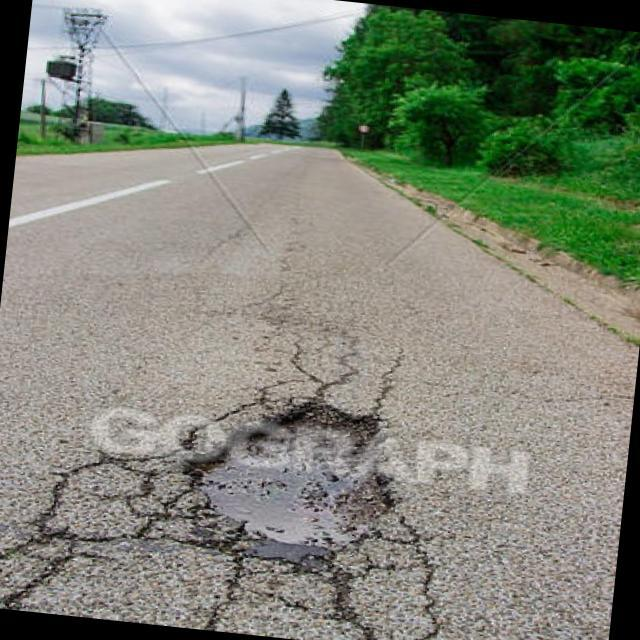Pothole: (174, 387, 408, 573)
